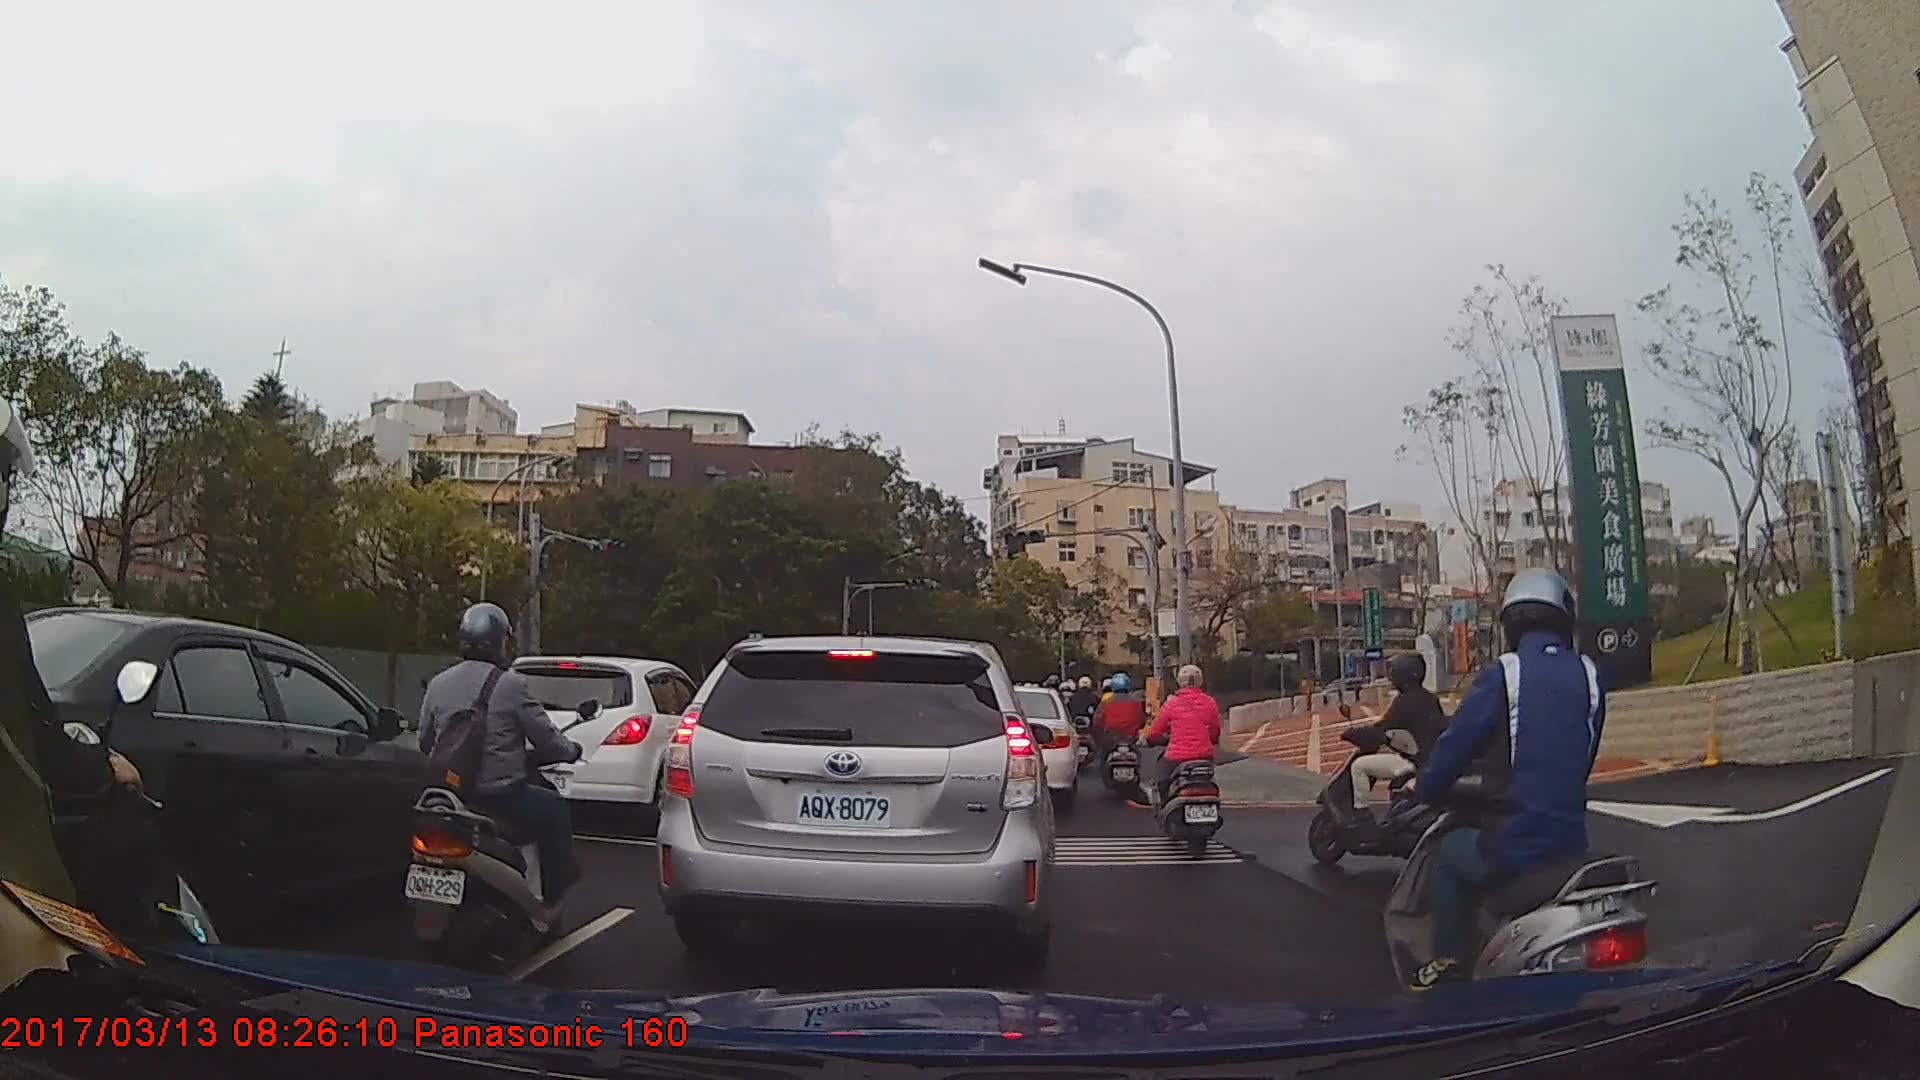rider: (1383, 567, 1658, 1048), (400, 601, 587, 974), (1308, 655, 1497, 870), (1152, 661, 1222, 859), (1091, 669, 1150, 804), (1071, 674, 1106, 773)
vehicle: (3, 606, 469, 935), (652, 633, 1054, 979), (471, 654, 720, 834), (965, 685, 1079, 808)
